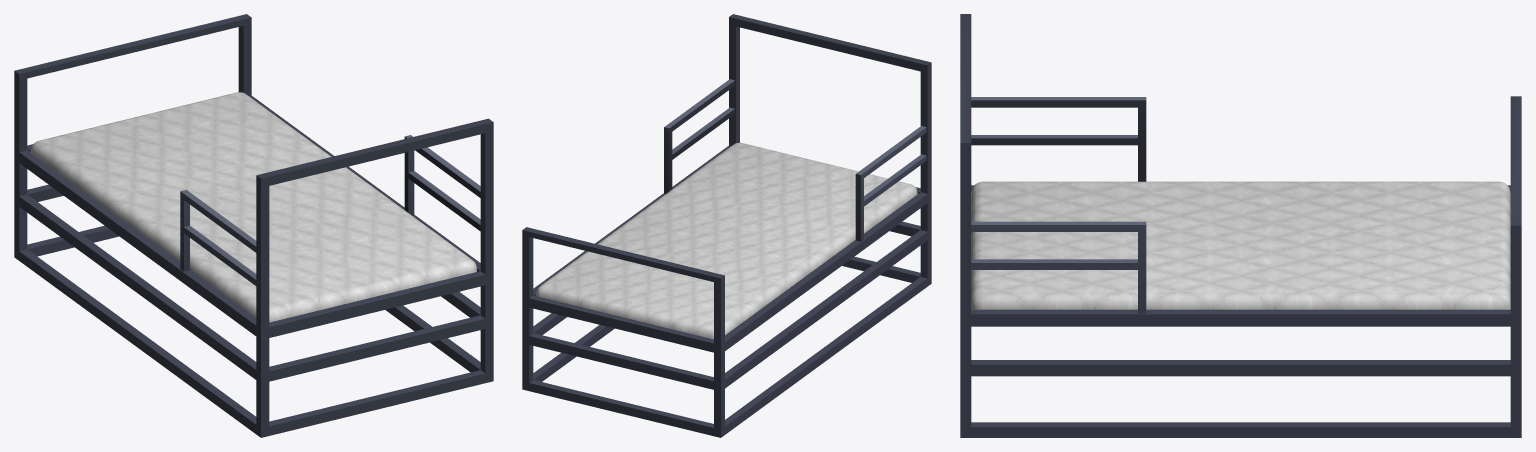
File: squidgame_props_bed1.fbx
3 views of the same model, side by side, from view 1: azimuth 30°, elevation 25°; view 2: azimuth 150°, elevation 25°; view 3: azimuth 270°, elevation 25° (orthographic). The views are drawn at different scales.
Visible parts, largest first — view 1: squidgame_props_bed1; view 2: squidgame_props_bed1; view 3: squidgame_props_bed1.
Part boxes in pixels (bbox=[...]): squidgame_props_bed1: bbox=[14, 14, 493, 437]; squidgame_props_bed1: bbox=[522, 14, 931, 437]; squidgame_props_bed1: bbox=[960, 14, 1521, 437].
Size of the model in its own units: 1.11 by 1.18 by 2.04.
